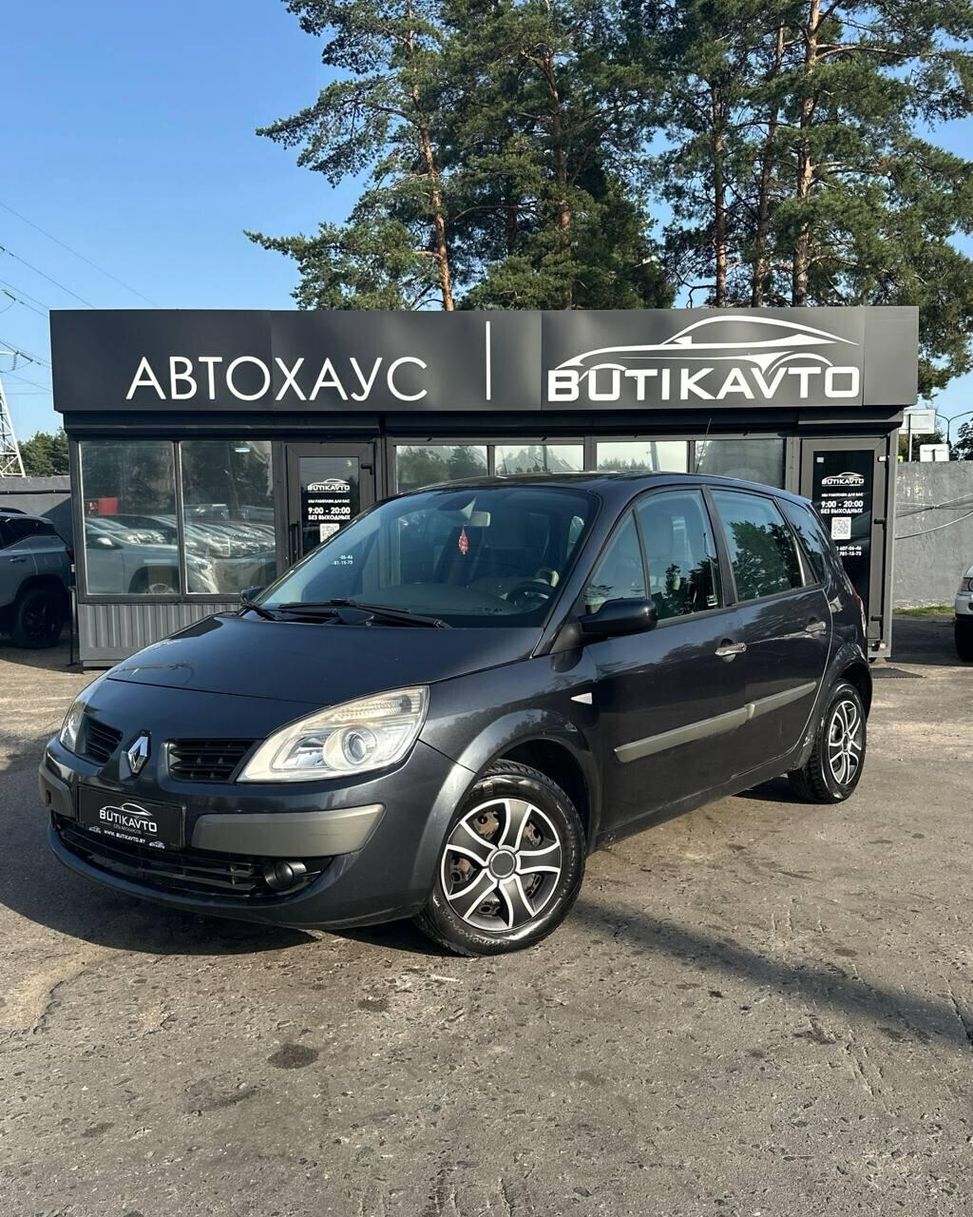Megane_2005-2009: (27, 474, 869, 960)
